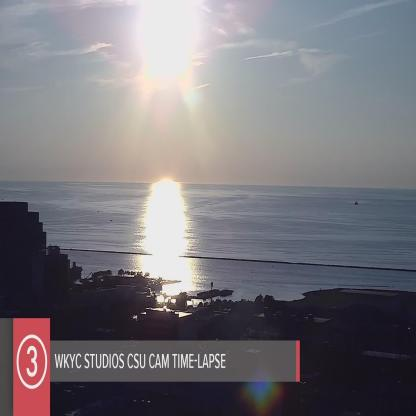other: (123, 159, 210, 294), (128, 1, 208, 90)
